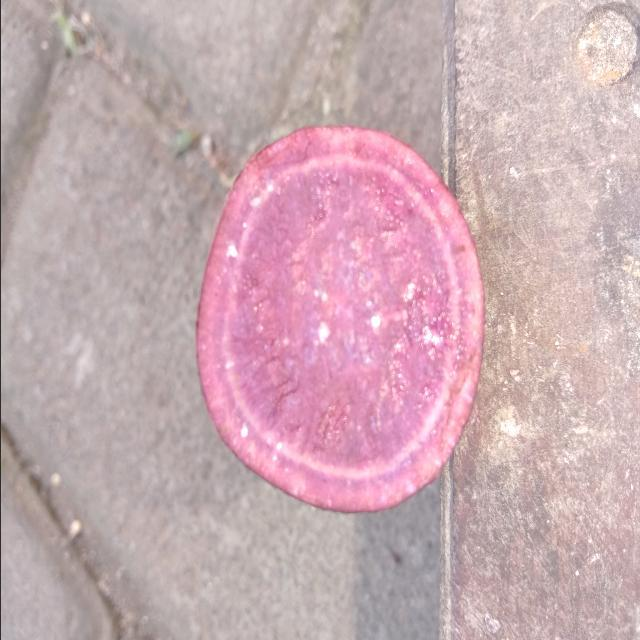Healthy Sweet Potato: (195, 127, 484, 512)
